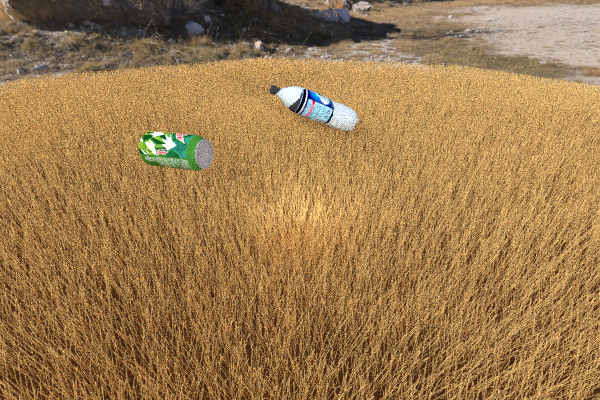Plastic Bottle: (271, 85, 360, 131), (174, 89, 214, 123)
